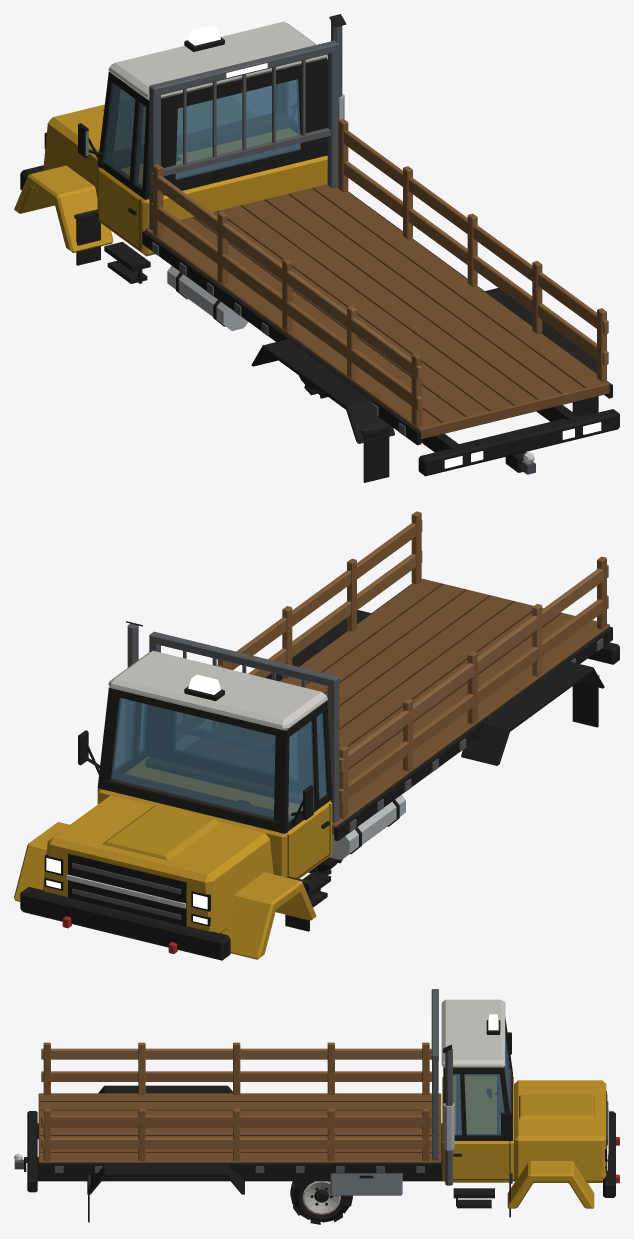
File: Flatbed.glb
The picture shows the model from 3 angles, top to bottom: view 1: azimuth 30°, elevation 25°; view 2: azimuth 150°, elevation 25°; view 3: azimuth 270°, elevation 25°; orthographic projection. The views are drawn at different scales.
Visible parts, largest first — view 1: Bed, Body, Glass, Lights; view 2: Body, Bed, Glass, Lights; view 3: Bed, Body, Glass, Wheel.
Boxes of the visible parts, left/top/right/bottom form: Bed: left=142, top=40, right=612, bottom=445; Body: left=14, top=14, right=619, bottom=482; Glass: left=85, top=79, right=300, bottom=188; Lights: left=188, top=25, right=601, bottom=468; Body: left=14, top=610, right=619, bottom=960; Bed: left=149, top=511, right=612, bottom=840; Glass: left=111, top=698, right=327, bottom=822; Lights: left=46, top=674, right=220, bottom=924; Bed: left=38, top=989, right=441, bottom=1173; Body: left=27, top=999, right=619, bottom=1222; Glass: left=453, top=1032, right=510, bottom=1135; Wheel: left=290, top=1181, right=352, bottom=1224.
Size of the model in its own units: 12.14 by 13.54 by 35.2.
